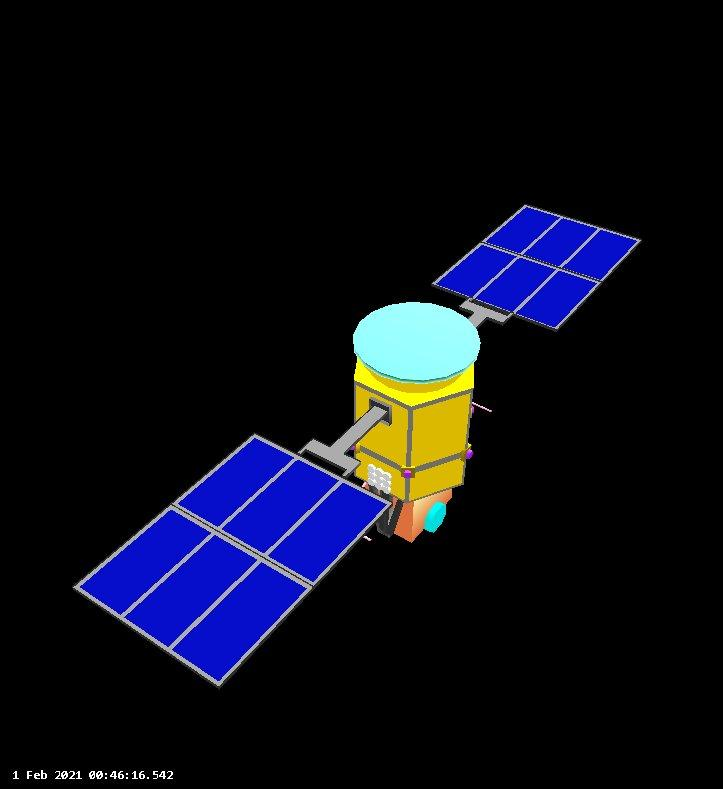antenna: (353, 300, 481, 384), (422, 498, 449, 532), (470, 396, 495, 413)
body: (350, 354, 477, 507)
solar: (68, 431, 393, 688), (430, 197, 645, 331)
